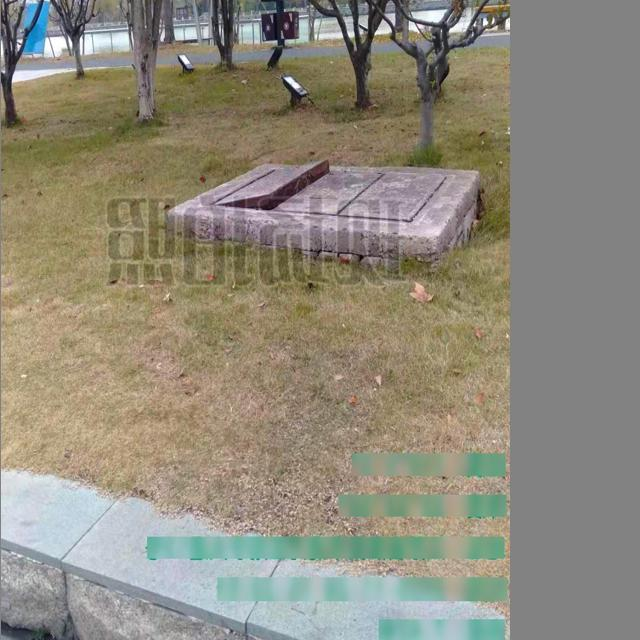uncovered: (142, 155, 475, 240)
